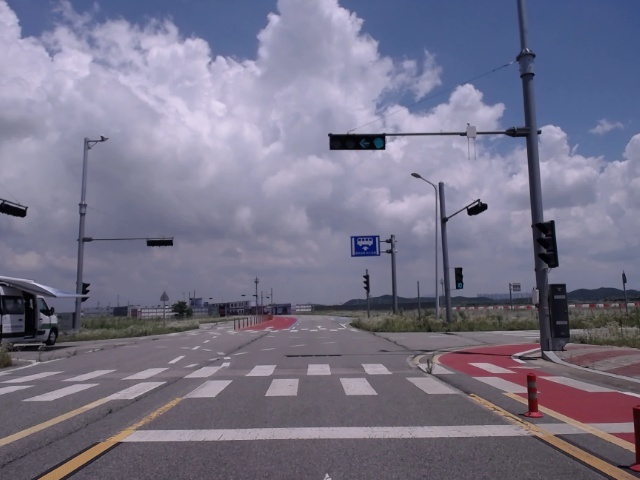all_green_4: (330, 135, 385, 150)
